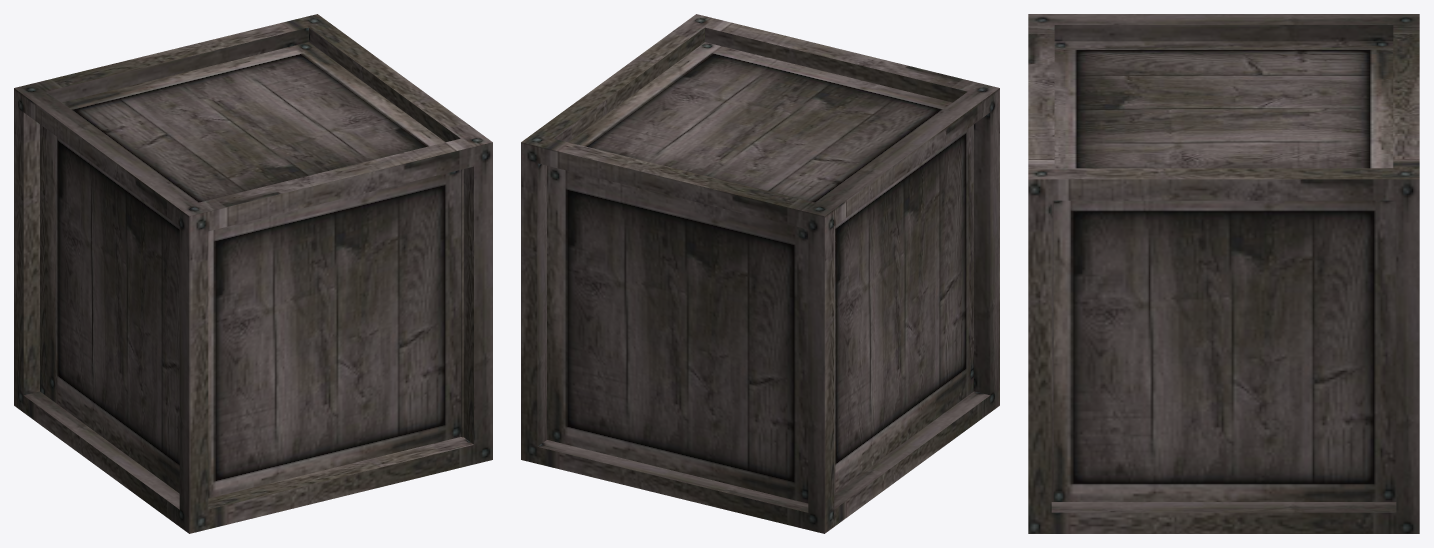
Rendered from crate.glb.
3 renders of one model, left to right at view 1: azimuth 30°, elevation 25°; view 2: azimuth 150°, elevation 25°; view 3: azimuth 270°, elevation 25°, orthographic. The views are drawn at different scales.
Parts seen in each view (by area): view 1: Cube; view 2: Cube; view 3: Cube.
Boxes of the visible parts, <box> form: Cube: <box>14,14,492,533</box>; Cube: <box>521,14,999,533</box>; Cube: <box>1028,14,1419,533</box>.
Size of the model in its own units: 2 by 2 by 2.
1 material, 1 textured.
